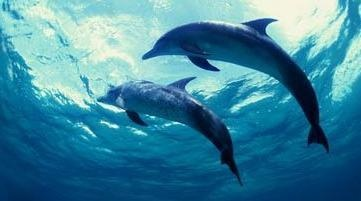fish: (140, 17, 330, 152), (95, 77, 246, 188)
